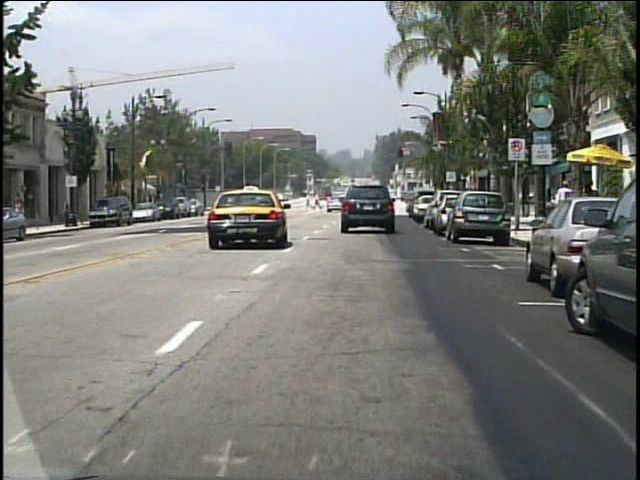person: (552, 179, 572, 216), (303, 191, 314, 211), (310, 193, 321, 212)
